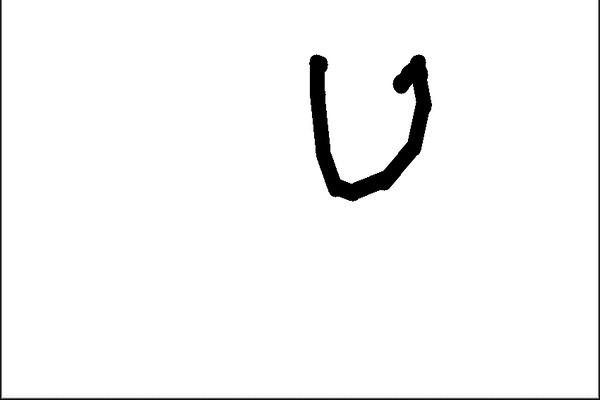U: (301, 32, 442, 201)
